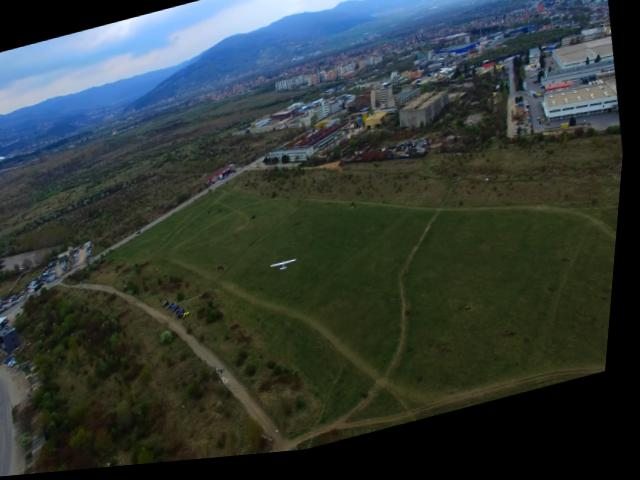plane: (272, 260, 302, 280)
